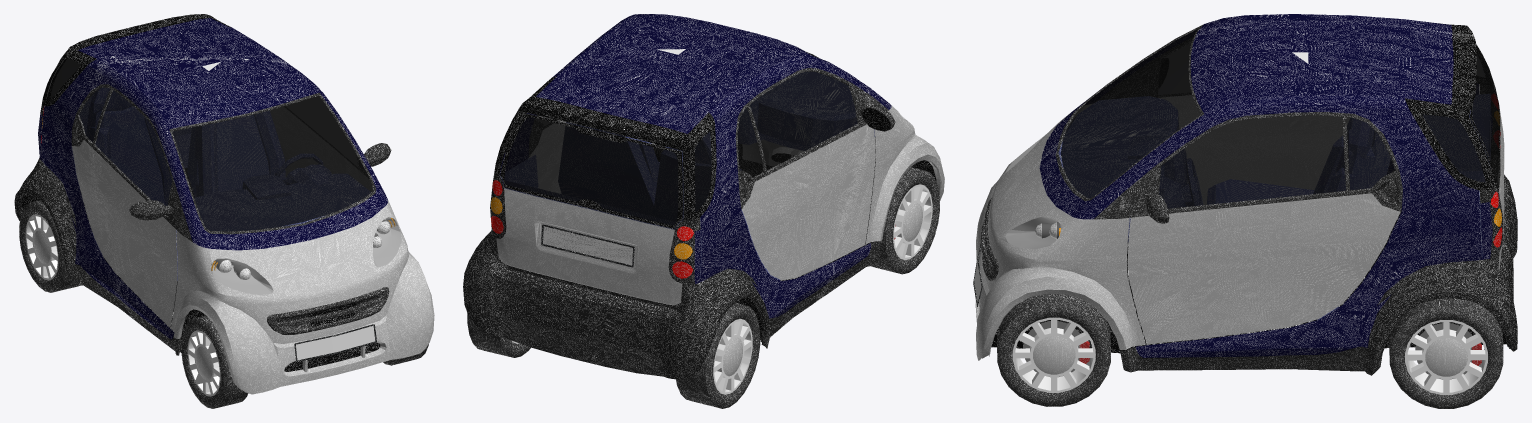
File: smart-reflection.dae
The picture shows the model from 3 angles, left to right: view 1: azimuth 30°, elevation 25°; view 2: azimuth 150°, elevation 25°; view 3: azimuth 270°, elevation 25°; orthographic projection. The views are drawn at different scales.
Visible parts, largest first — view 1: SketchUp (×44); view 2: SketchUp (×32); view 3: SketchUp (×38).
Part boxes in pixels (<box>): SketchUp (×44): <box>14,14,434,408</box>; SketchUp (×32): <box>463,14,944,408</box>; SketchUp (×38): <box>975,14,1517,408</box>.
Size of what is drawn, in the model's own units: 69.38 by 102 by 60.93.
